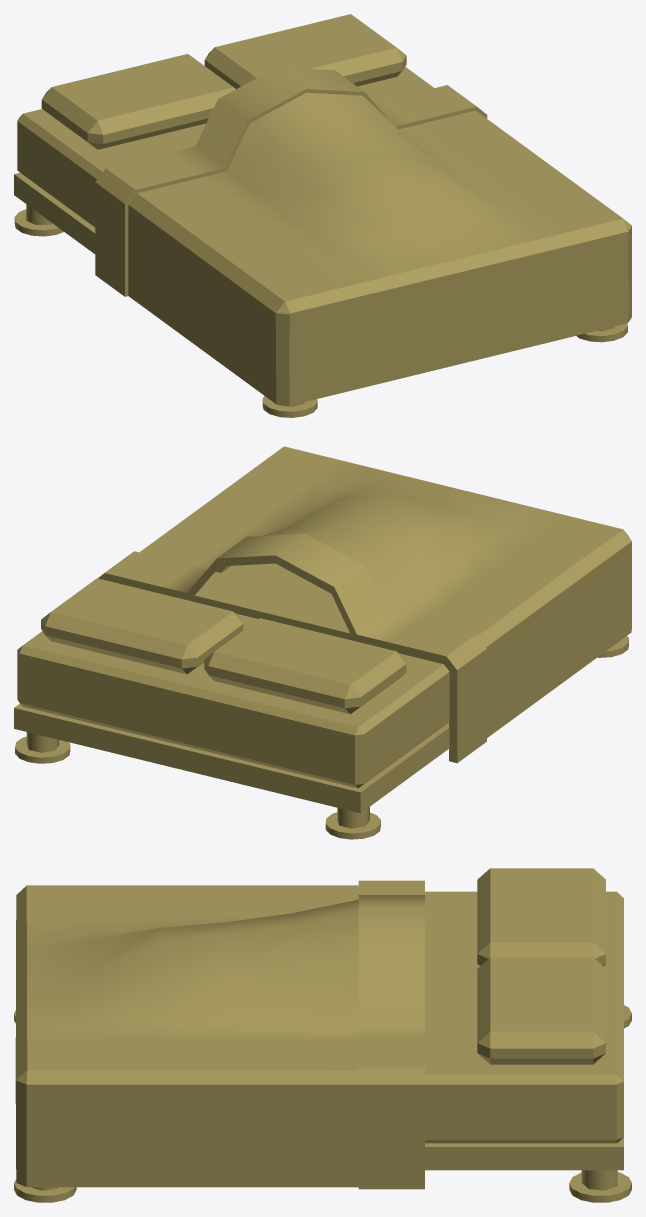
Rendered from Bed.fbx.
The picture shows the model from 3 angles, top to bottom: view 1: azimuth 30°, elevation 25°; view 2: azimuth 150°, elevation 25°; view 3: azimuth 270°, elevation 25°; orthographic projection. The views are drawn at different scales.
Visible parts, largest first — view 1: Bedspread_Filled, Bed_Base, Bedspread; view 2: Bed_Base, Bedspread_Filled, Bedspread; view 3: Bedspread_Filled, Bed_Base.
Boxes of the visible parts, x1,y1,x2,y2 form: Bedspread_Filled: (96,67,631,404); Bed_Base: (14,14,627,417); Bedspread: (95,107,627,405); Bed_Base: (14,578,628,839); Bedspread_Filled: (98,446,629,762); Bedspread: (190,530,631,763); Bedspread_Filled: (15,880,424,1188); Bed_Base: (14,868,631,1202).
Bounding box in the file's own units: 155 × 72.1 × 204.
